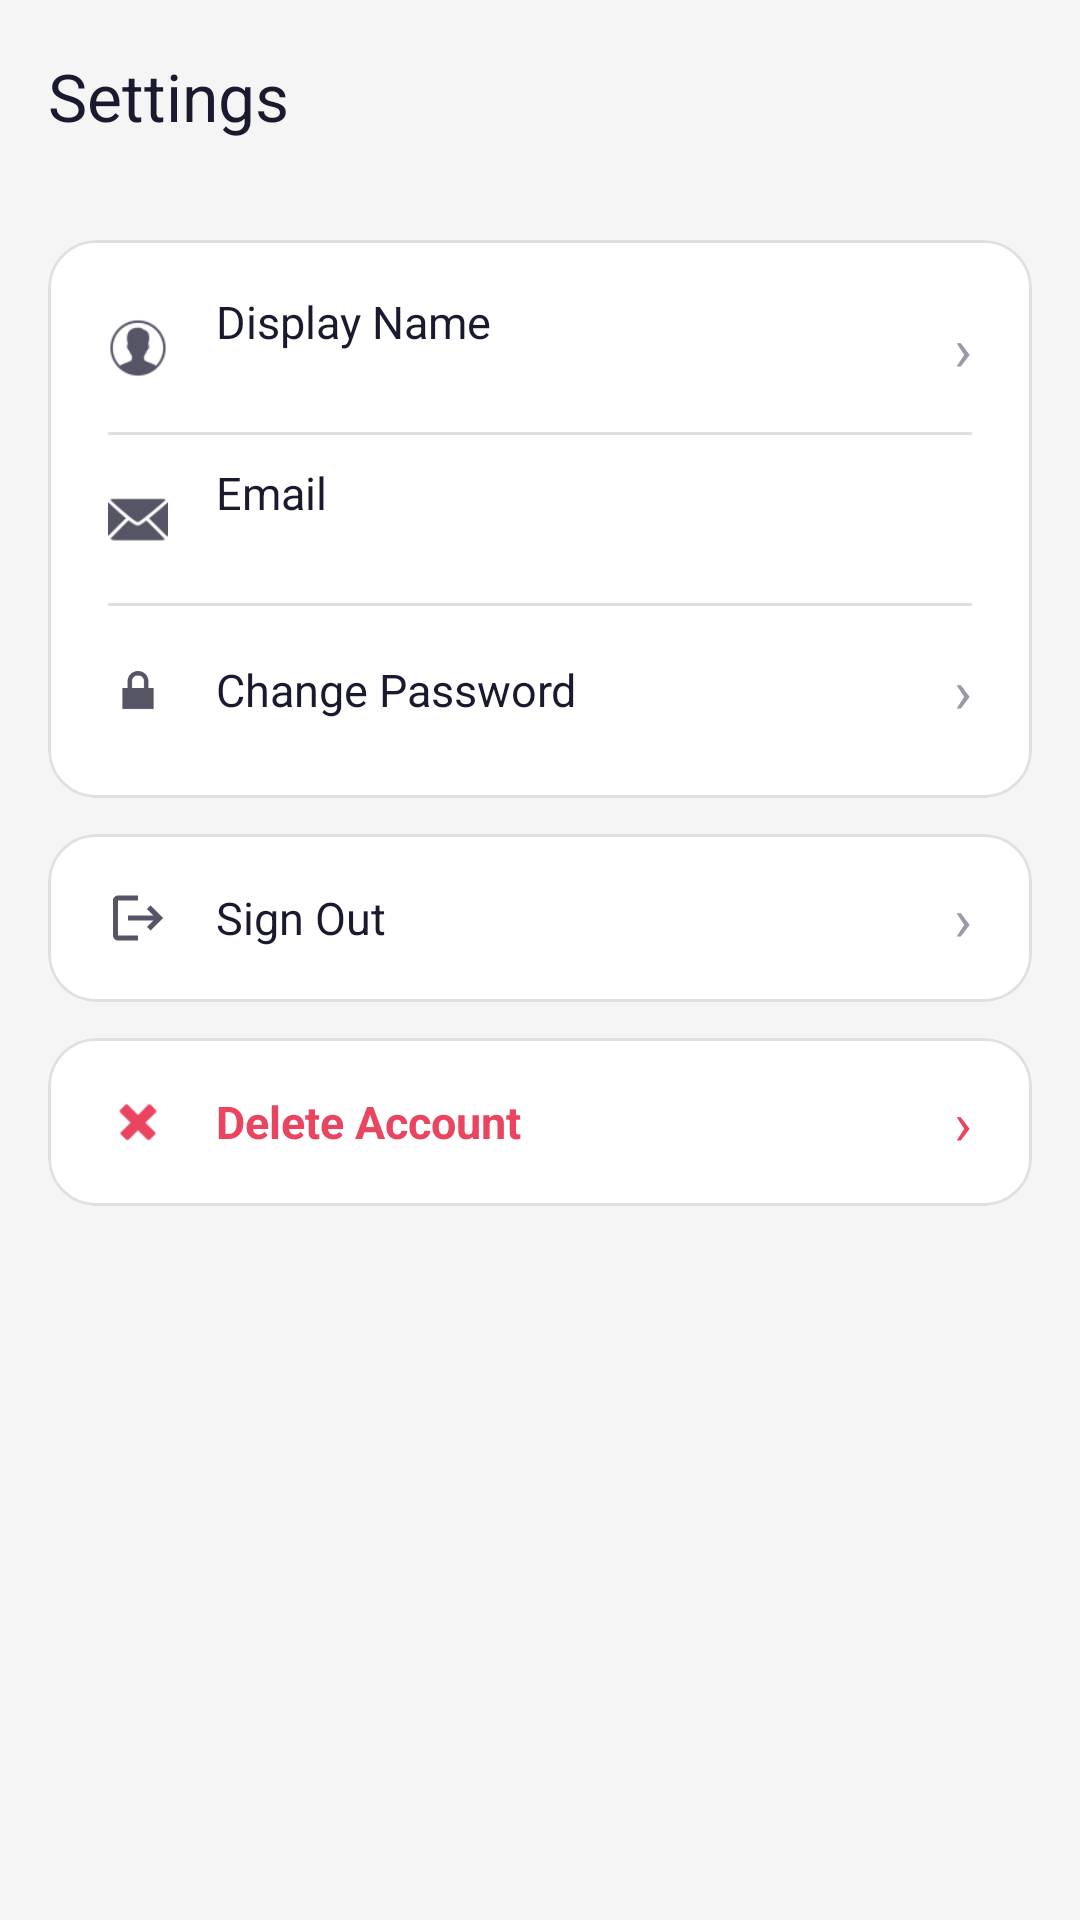

Where to tap for icons on this 1080 × 1920 app screen, as (x,y):
lock: (138,690)
profile: (138,348)
